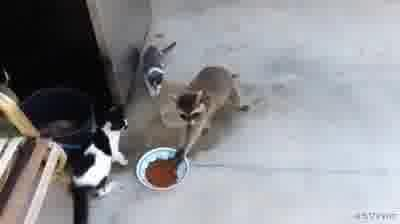raccoon: (173, 64, 251, 164)
